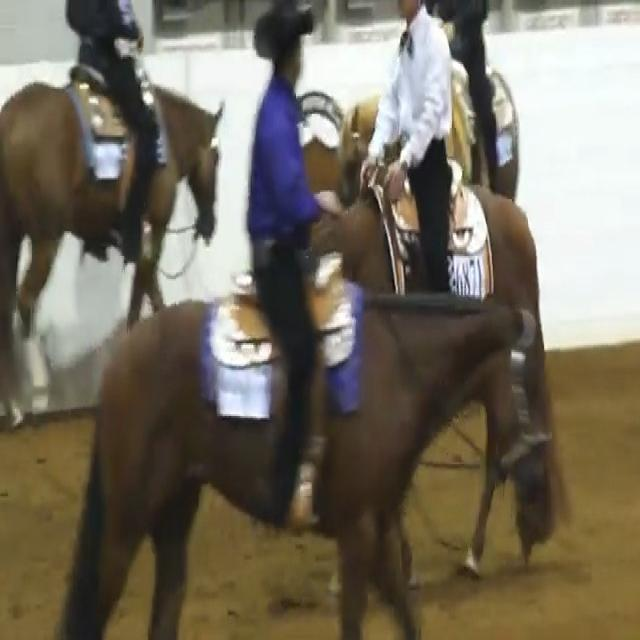horse: (39, 121, 550, 640), (0, 0, 216, 377)
